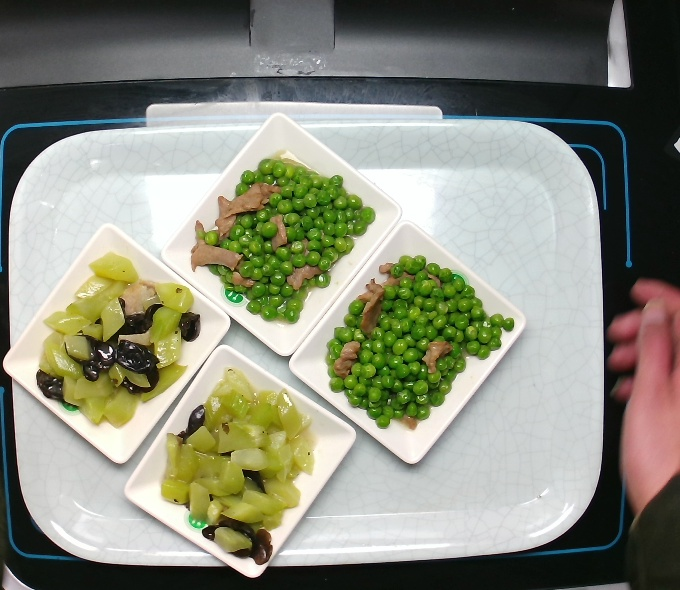wcq-CanDouRouSi: (318, 252, 510, 433), (183, 163, 382, 327)
wcq-WoSunKuai: (150, 380, 337, 568), (31, 251, 218, 439)
